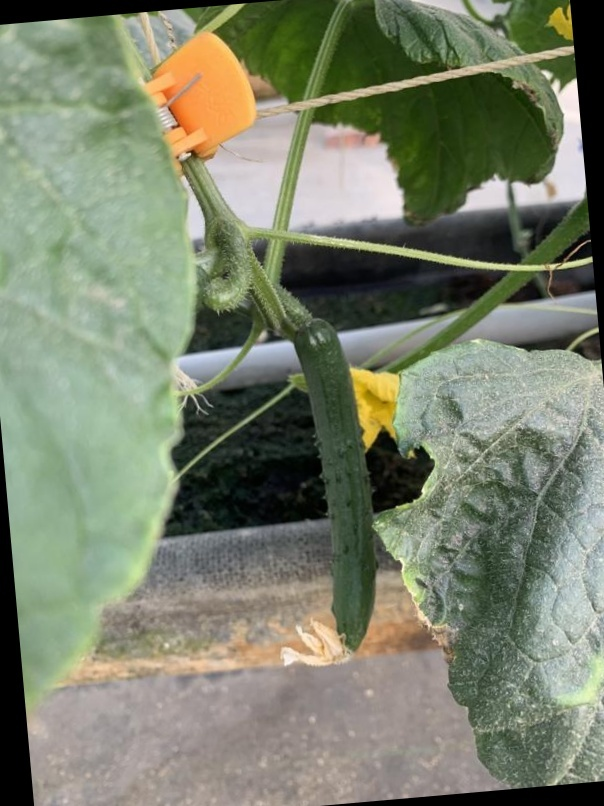mature: (292, 317, 385, 668)
